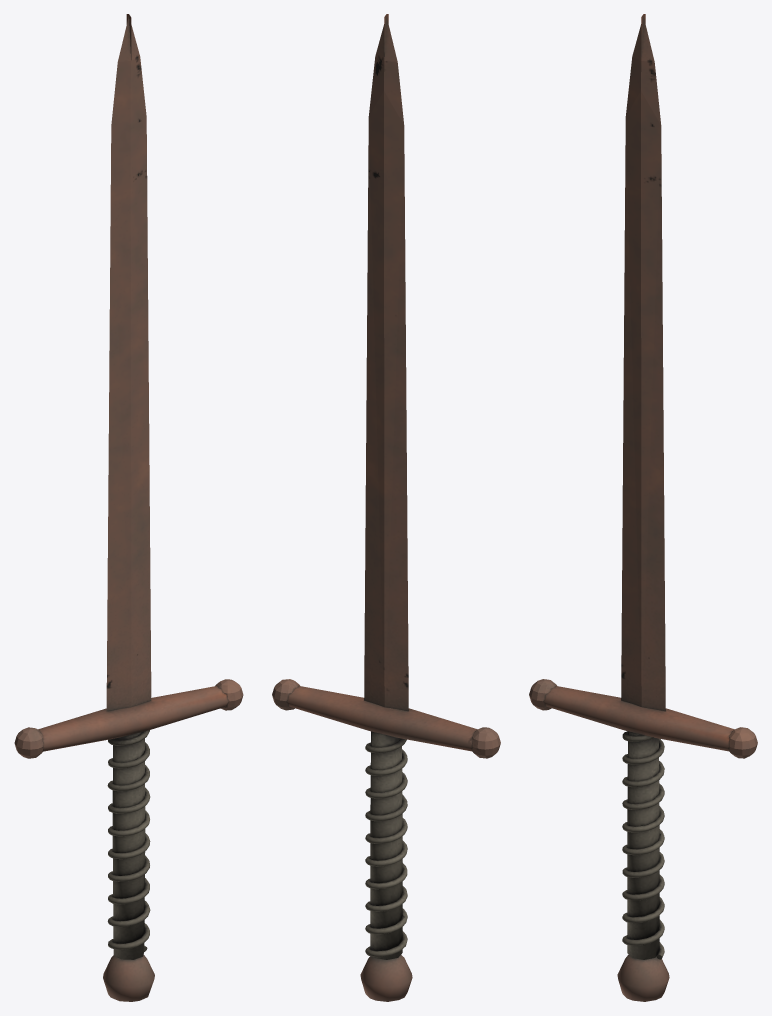
Rendered from arma_espada_longa_enferrujada.glb.
3 renders of one model, left to right at view 1: azimuth 30°, elevation 25°; view 2: azimuth 150°, elevation 25°; view 3: azimuth 330°, elevation 25°, orthographic.
Visible parts, largest first — view 1: arma_espada_longa_enferrujada; view 2: arma_espada_longa_enferrujada; view 3: arma_espada_longa_enferrujada.
Boxes of the visible parts, x1=… form: arma_espada_longa_enferrujada: x1=14, y1=14, x2=243, y2=1001; arma_espada_longa_enferrujada: x1=272, y1=14, x2=500, y2=1001; arma_espada_longa_enferrujada: x1=529, y1=14, x2=757, y2=1001.
Size of the model in its own units: 0.296 by 1.24 by 0.06.
Materials: 1 (1 with a texture image).
